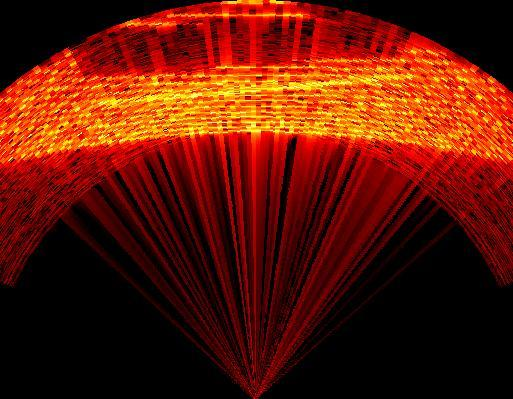pipe: (65, 14, 424, 76)
